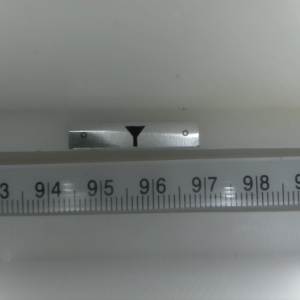3: (0, 183, 9, 199)
4: (50, 181, 61, 196)
5: (103, 179, 113, 195)
6: (155, 177, 166, 193)
7: (207, 177, 217, 192)
8: (259, 174, 268, 190)
9: (191, 177, 201, 193), (86, 180, 96, 196), (34, 182, 44, 198), (243, 176, 252, 191), (294, 173, 300, 190)
finger: (123, 126, 145, 148)
